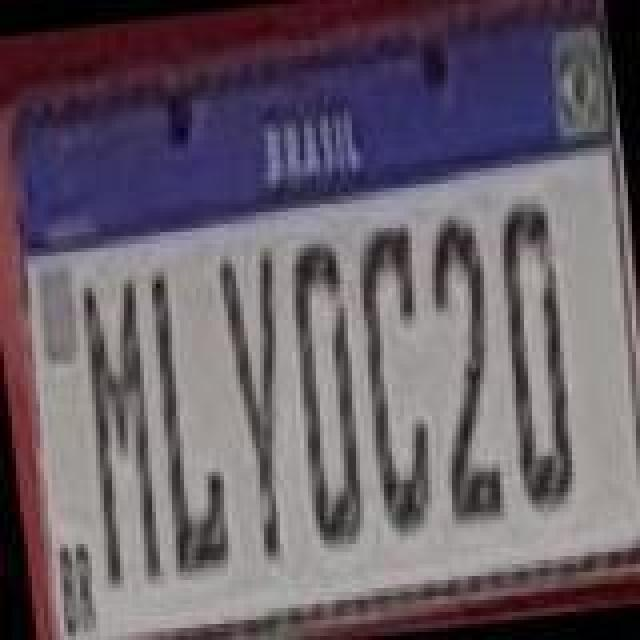2: (414, 210, 514, 526)
C: (344, 220, 448, 540)
D: (486, 196, 586, 508), (280, 240, 376, 552)
L: (138, 266, 230, 574)
M: (70, 276, 170, 588)
Y: (218, 254, 310, 562)
